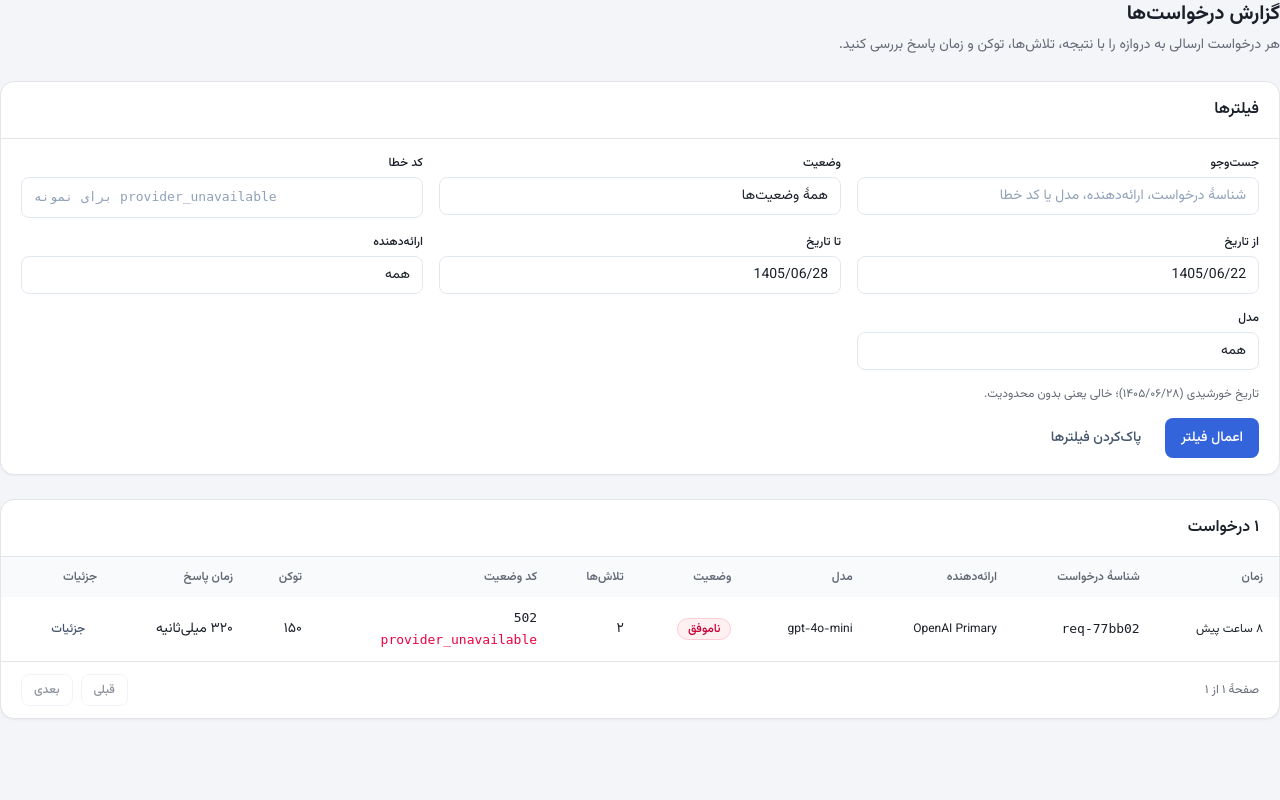
request logs page › shows the attempts of a failed request in the detail dialog
Expected: the text "req-77bb02" is shown, [1061, 620, 1140, 636]
Click the button "جزئیات": (68, 628) [39, 612, 97, 644]
(page scrolled)
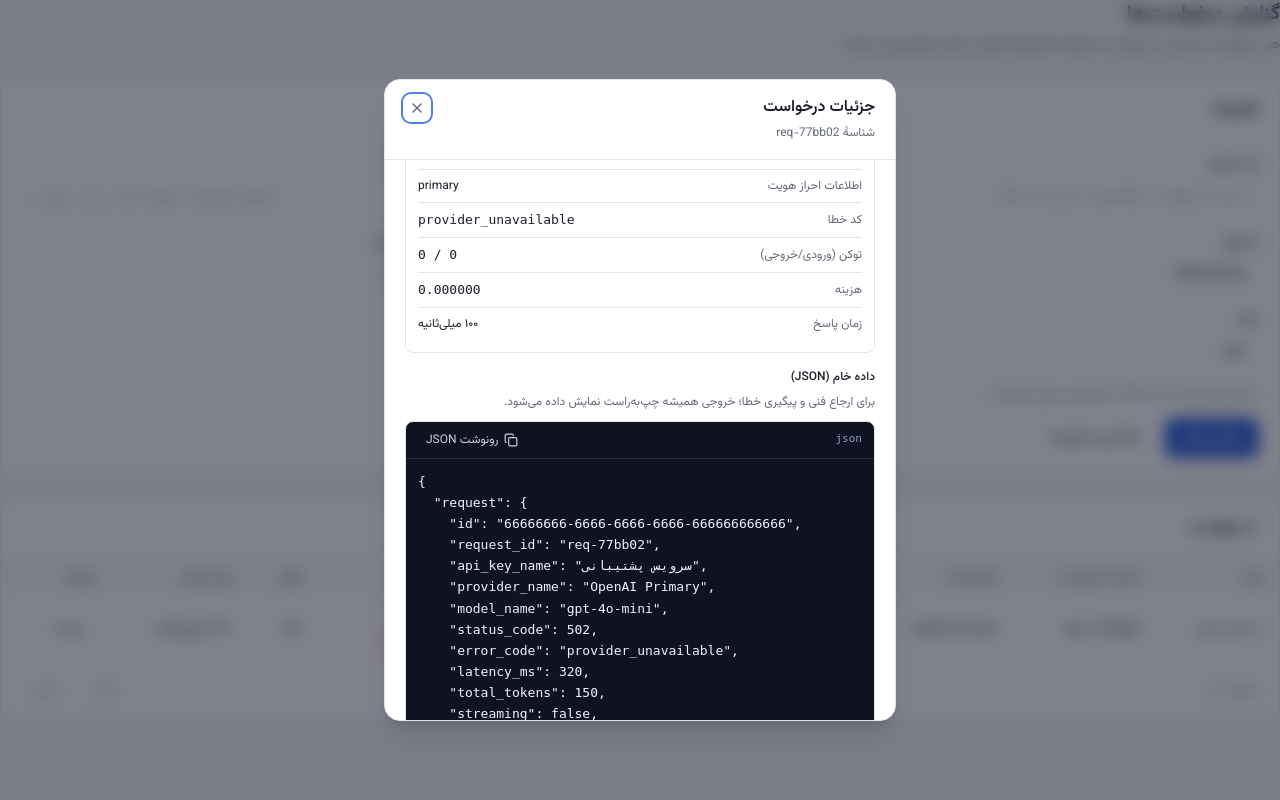
Expected: the button "رونوشت JSON" is shown, [418, 428, 526, 452]
